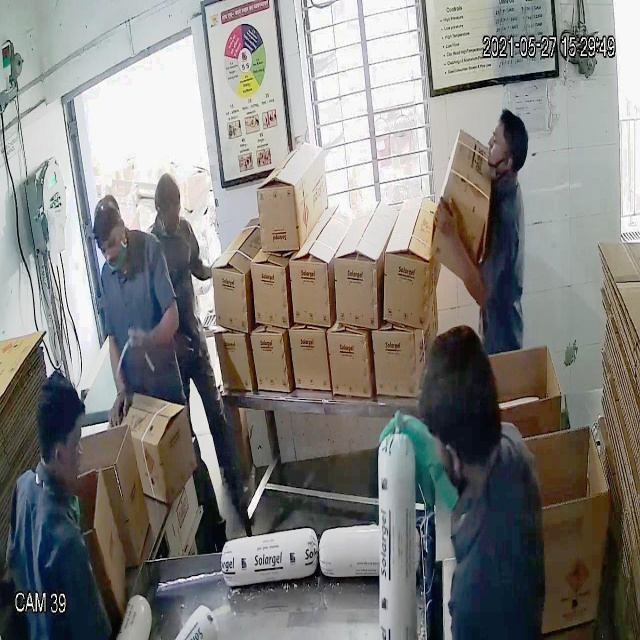Sin_gafas: (95, 227, 128, 260)
